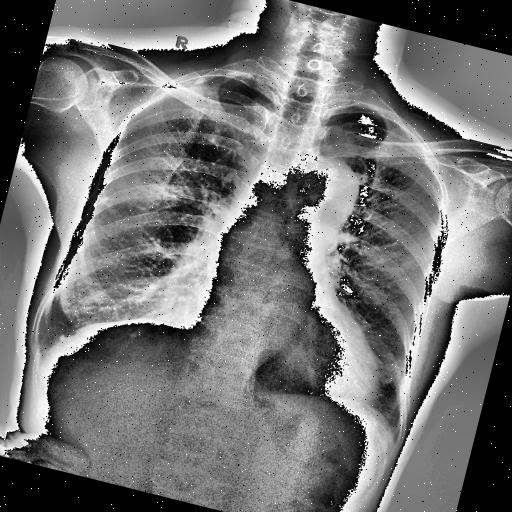0- Aortic enlargement: (282, 151, 364, 237), (298, 152, 366, 236), (300, 155, 364, 229)
11- Pleural thickening: (30, 337, 57, 375)
2- Calcification: (53, 330, 67, 342)
3- Cardiomegaly: (183, 291, 392, 412)
8- Nodule-Mass: (58, 334, 66, 342)
9- Other lesion: (30, 298, 78, 360)
